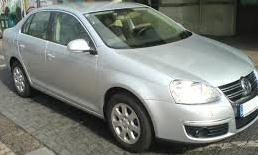Cars: (5, 5, 258, 151)
